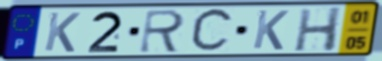2: (87, 10, 124, 54)
C: (188, 6, 237, 55)
H: (292, 6, 345, 53)
K: (250, 8, 291, 52), (42, 11, 83, 54)
R: (137, 8, 188, 55)
